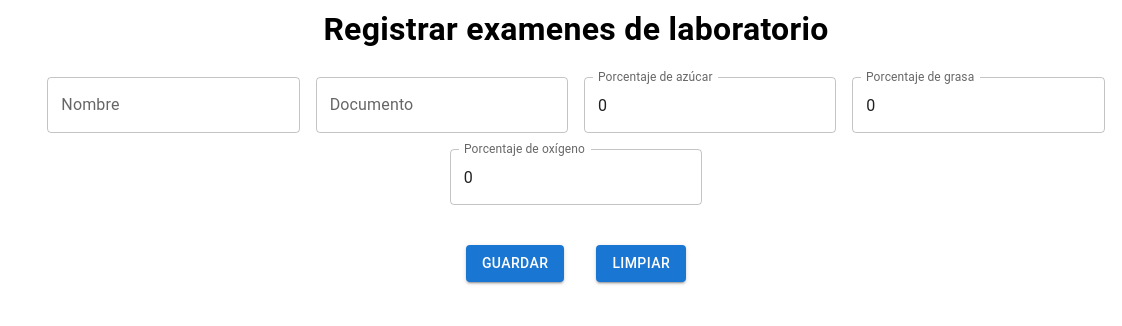
Scenario: Test en componente Home › Valida que todos los campos esten completos y muestra el mensaje del diagnostico
This screenshot has width=1122, height=326.
Type "Mhenao" into the field labelled "Nombre" at (173, 105), box x1=47 y1=77 x2=300 y2=133
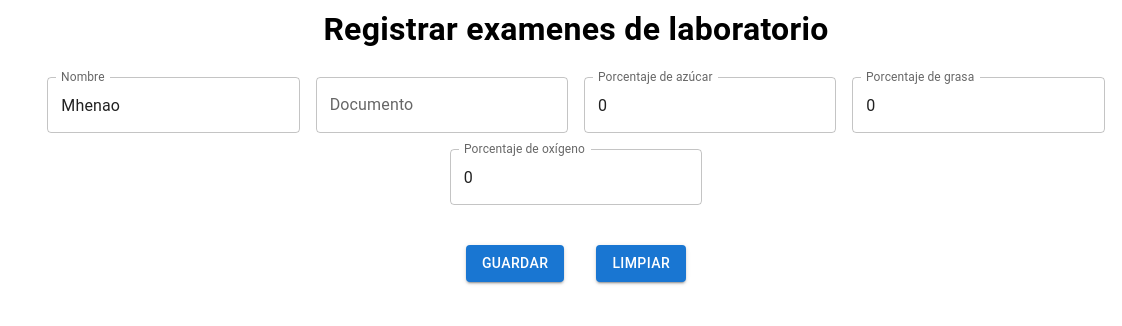
Type "102045" into the field labelled "Documento" at (442, 105), box x1=316 y1=77 x2=568 y2=133
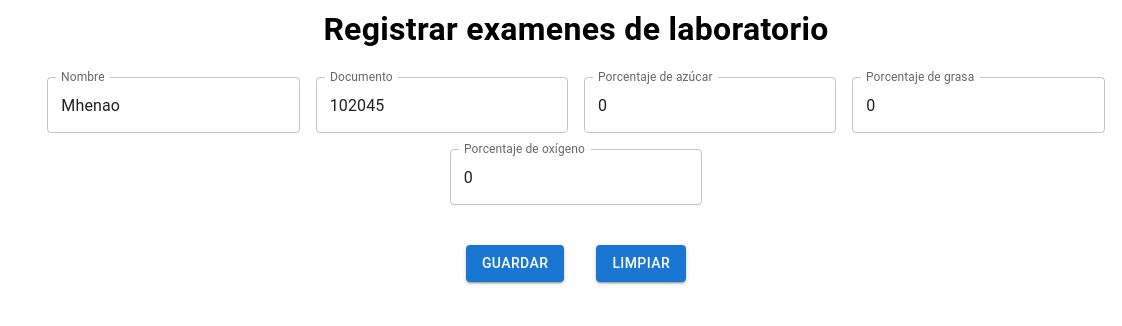
Replace the text in the number field labelled "Porcentaje de grasa" with "88" at (978, 105), box x1=852 y1=77 x2=1105 y2=133
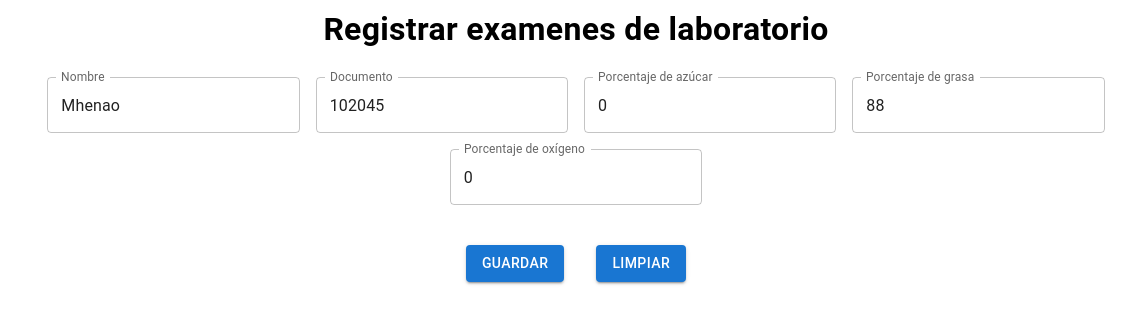
Click the button with test id "btn-guardar" at (515, 263), box x1=466 y1=245 x2=564 y2=282
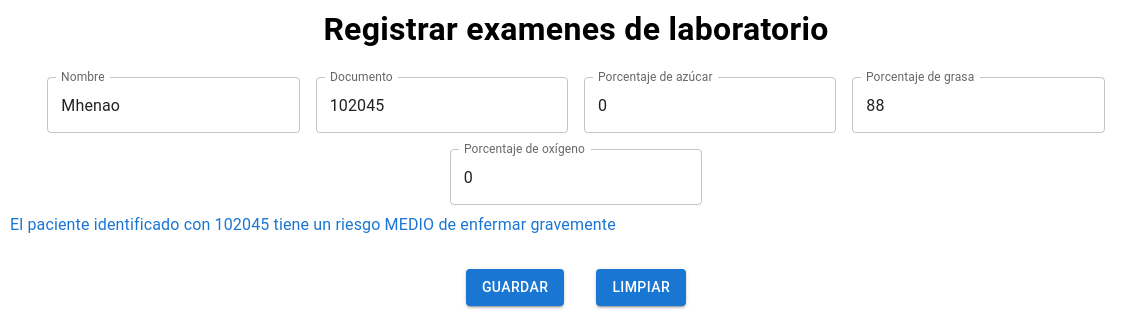
expect the text with test id "msg-diagnostico" is shown: met, box x1=10 y1=215 x2=616 y2=234
